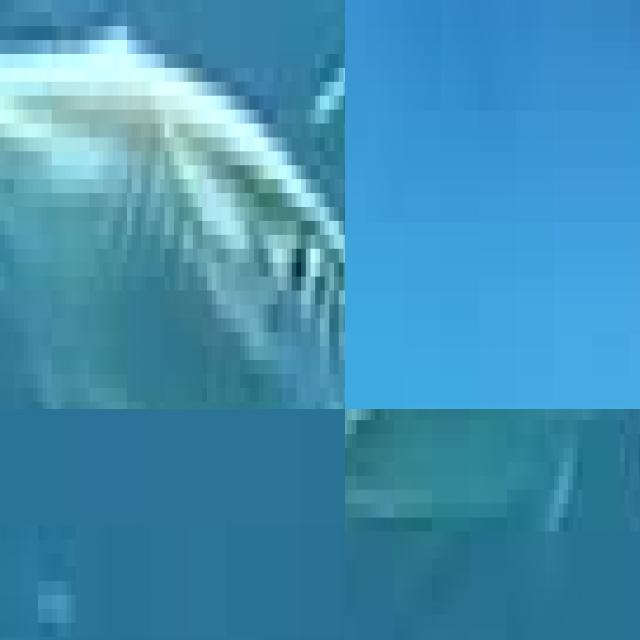fish: (0, 0, 345, 409), (345, 0, 640, 125)
